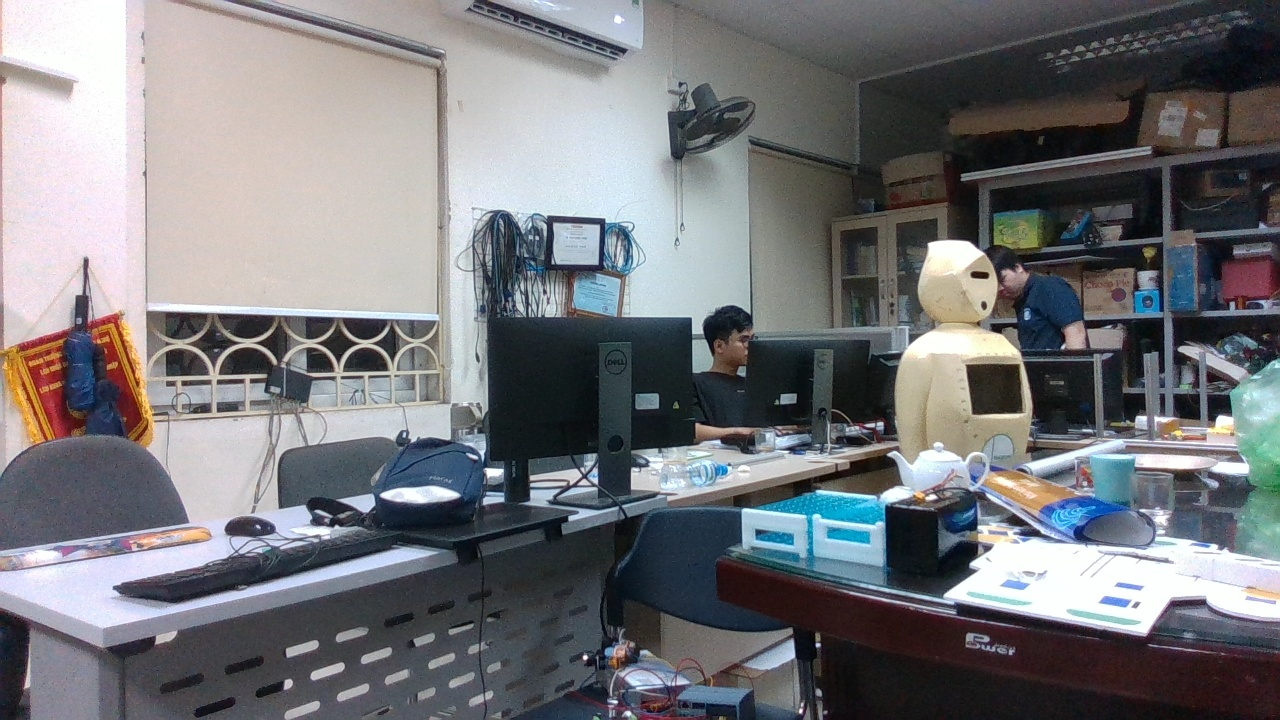person: (886, 244, 1024, 461)
